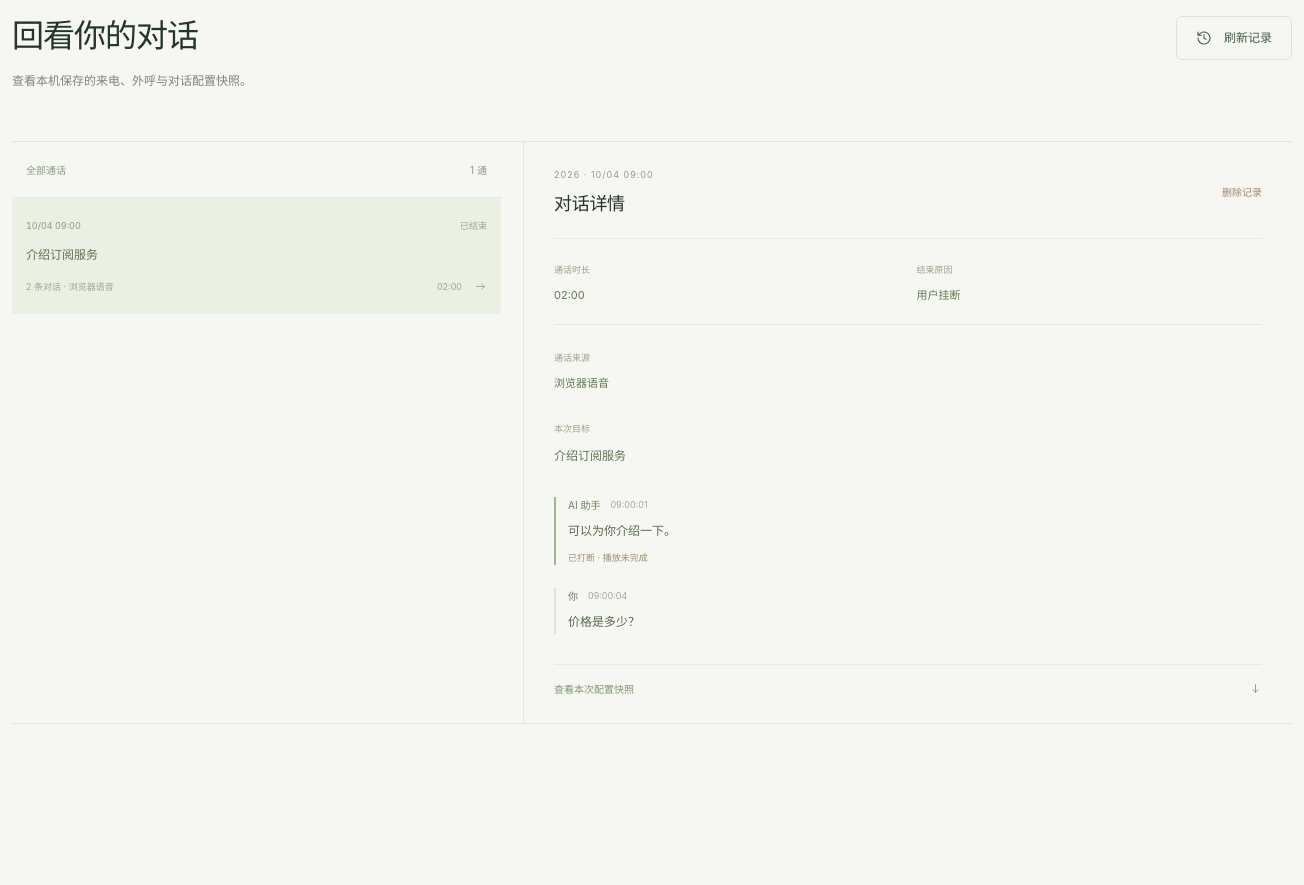
本机文字历史 › 显示真实列表、结束原因、被打断文字和通话配置快照
The image size is (1304, 885).
Expected: the text "价格是多少？" is shown, left=568, top=614, right=640, bottom=629
Expected: the text "用户挂断" is shown, left=916, top=288, right=960, bottom=302
Click the heading "查看本次配置快照" at (594, 689), box left=554, top=681, right=1262, bottom=696
(page scrolled)
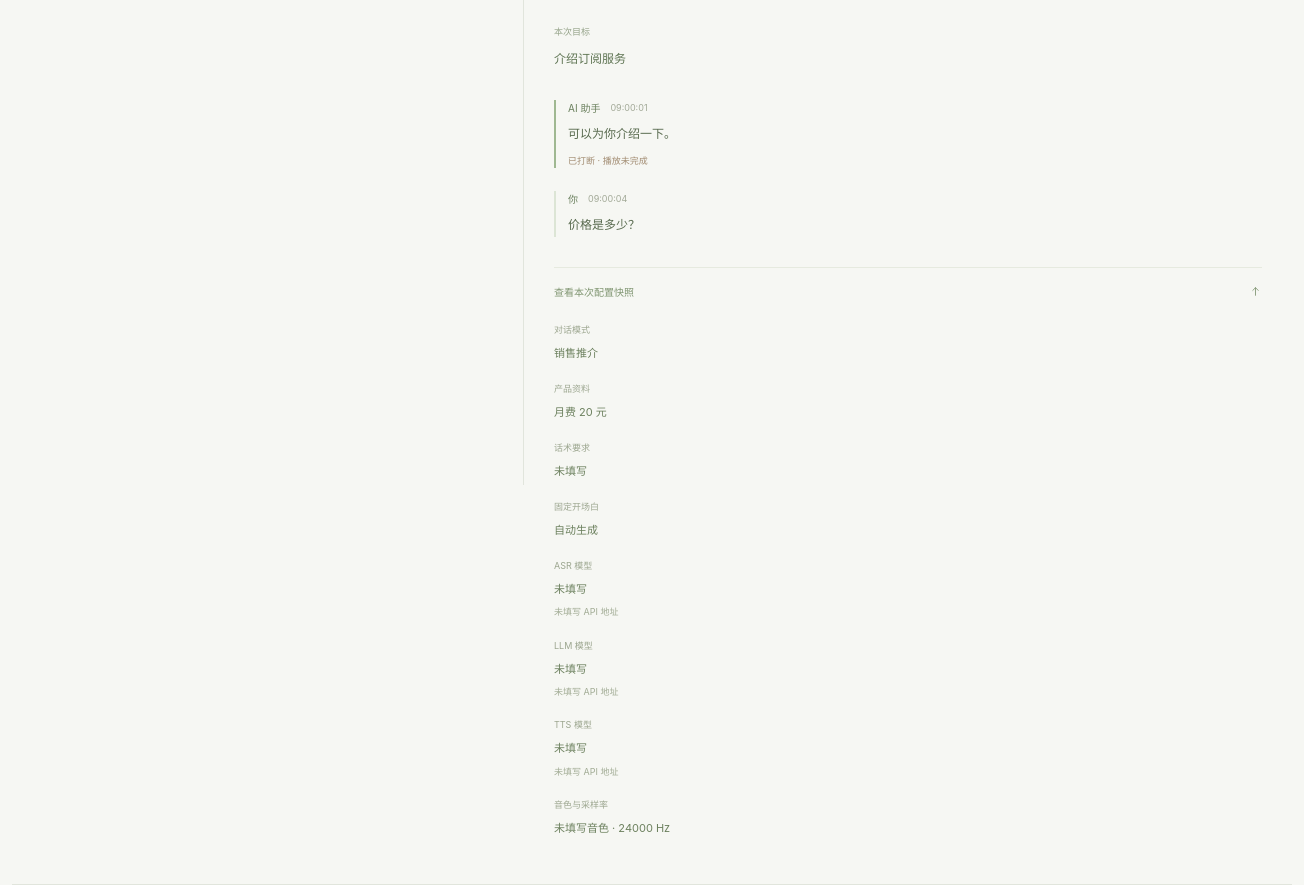
Expected: the text "月费 20 元" is shown, left=554, top=405, right=607, bottom=419
Expected: the text "24000 Hz" is shown, left=554, top=822, right=670, bottom=836
